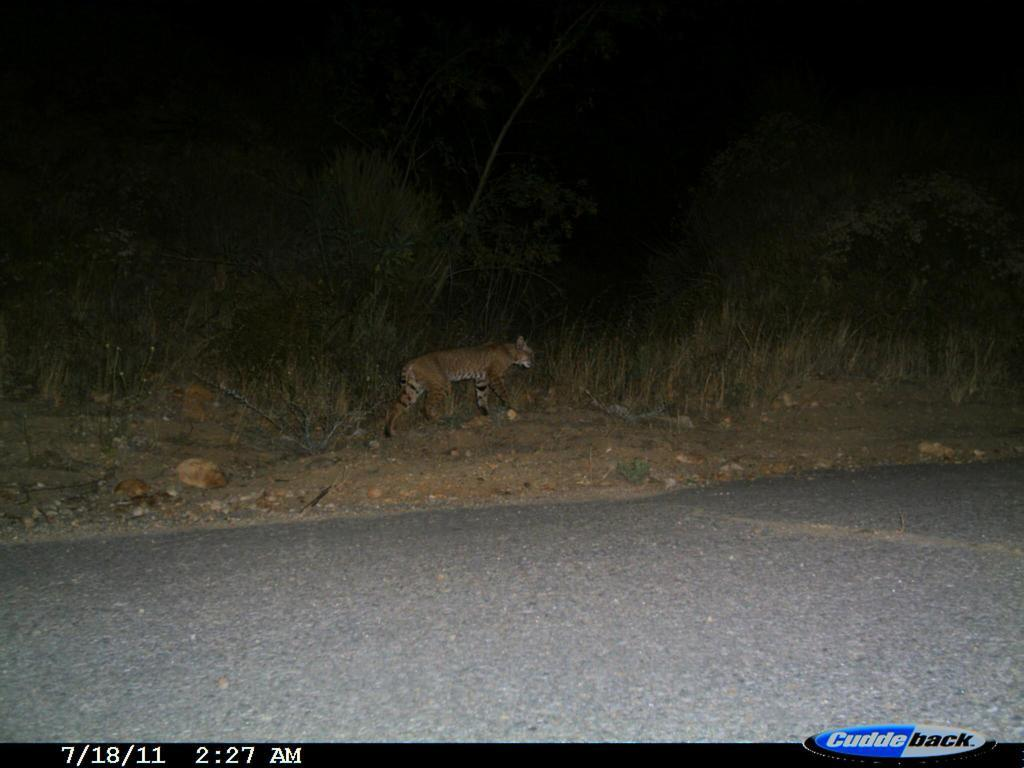bobcat: (374, 331, 545, 446)
